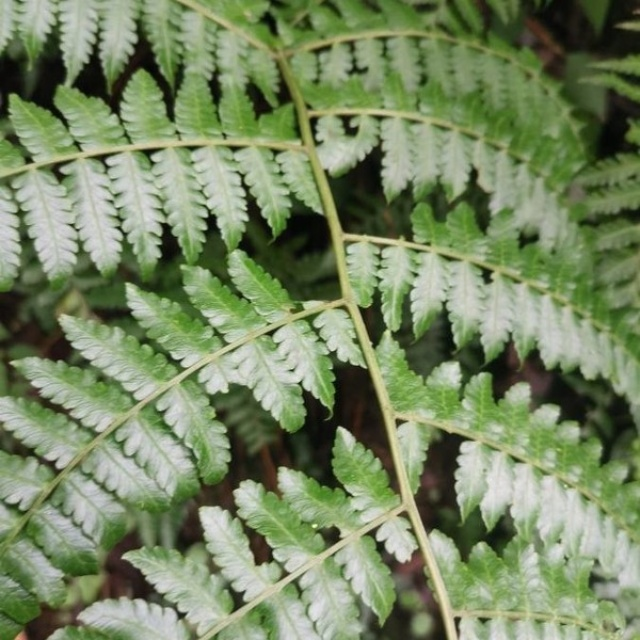obstacle: (9, 20, 609, 621)
